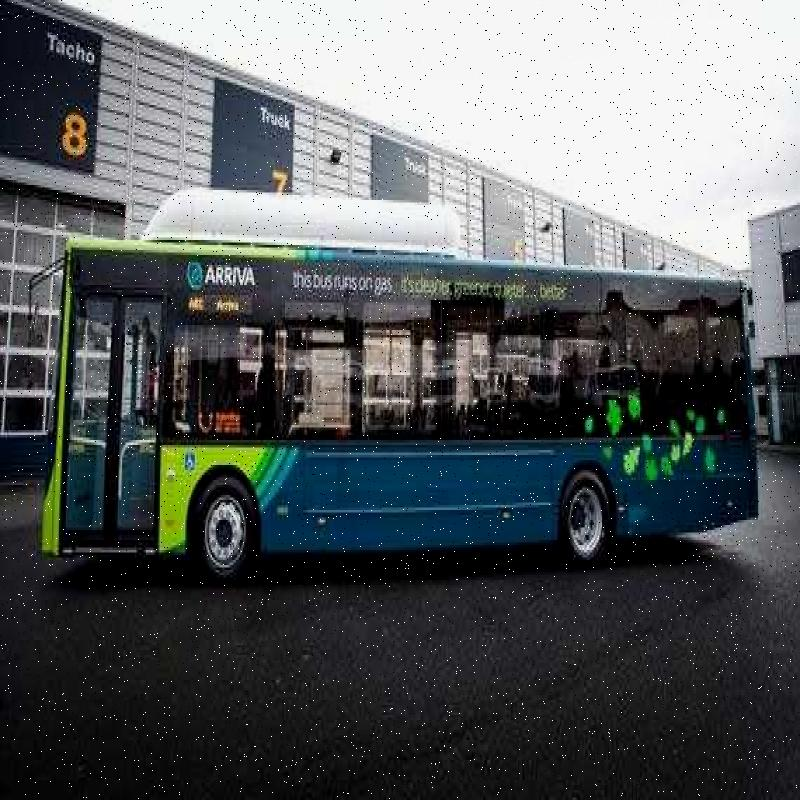bus: (39, 170, 771, 602)
